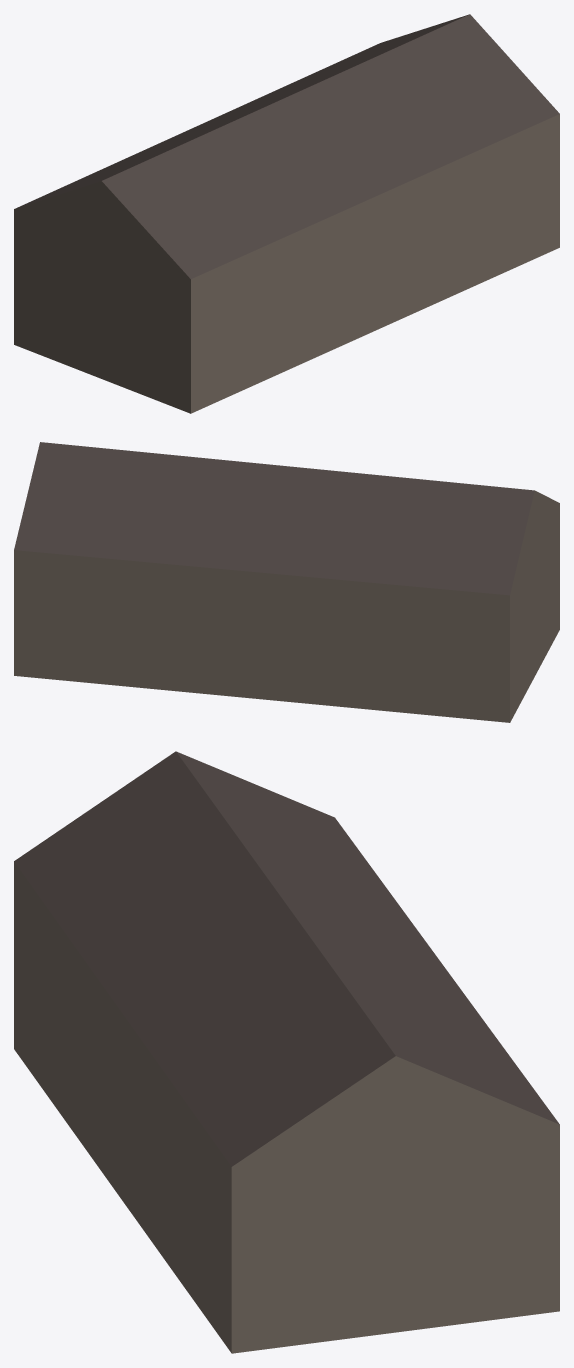
The picture shows the model from 3 angles, top to bottom: view 1: azimuth 30°, elevation 25°; view 2: azimuth 150°, elevation 25°; view 3: azimuth 270°, elevation 25°; orthographic projection. The views are drawn at different scales.
Visible parts, largest first — view 1: HP-w206164650; view 2: HP-w206164650; view 3: HP-w206164650.
Boxes of the visible parts, x1=… form: HP-w206164650: x1=14, y1=14, x2=559, y2=413; HP-w206164650: x1=14, y1=442, x2=559, y2=722; HP-w206164650: x1=14, y1=751, x2=559, y2=1353.
Bounding box in the file's own units: 23.9 × 8.88 × 15.9.
